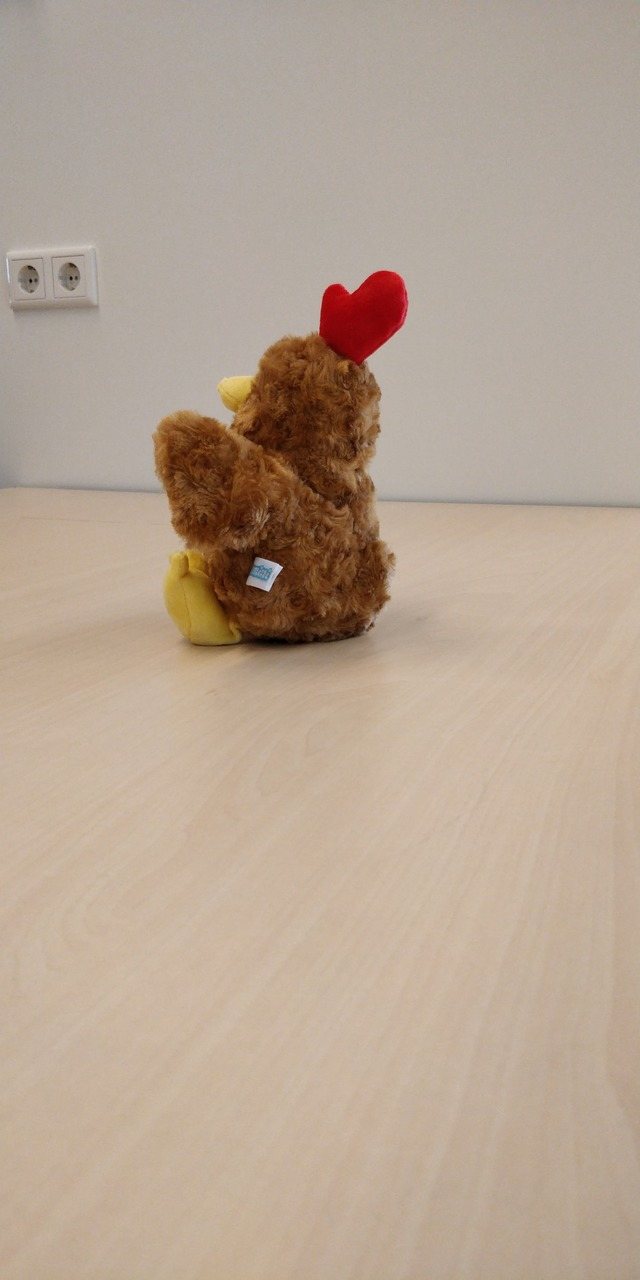fakeChicken: (150, 269, 412, 652)
